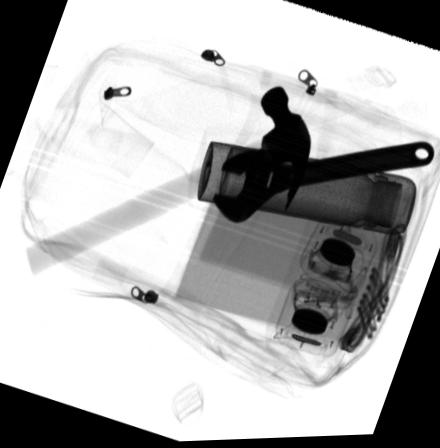Hammer: (24, 87, 310, 275)
Wrench: (211, 142, 435, 224)
